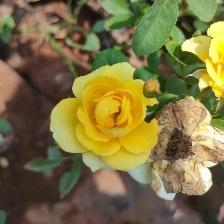rose: (49, 60, 162, 175), (185, 21, 224, 102)
